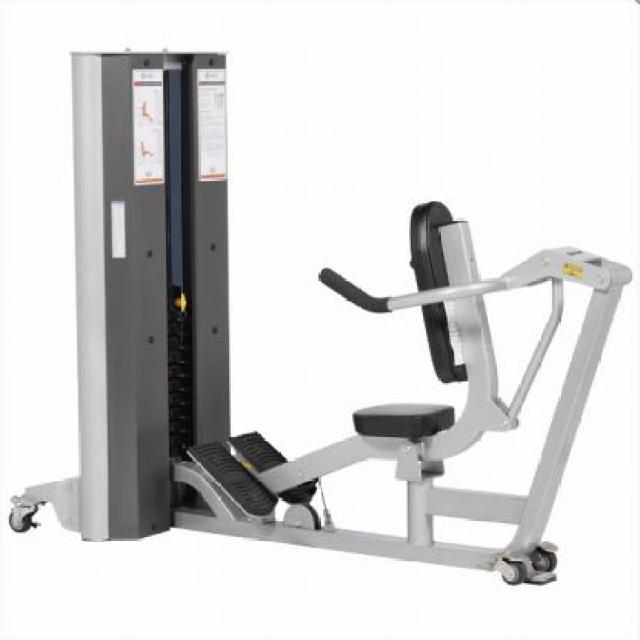seated dip machine: (11, 46, 635, 586)
